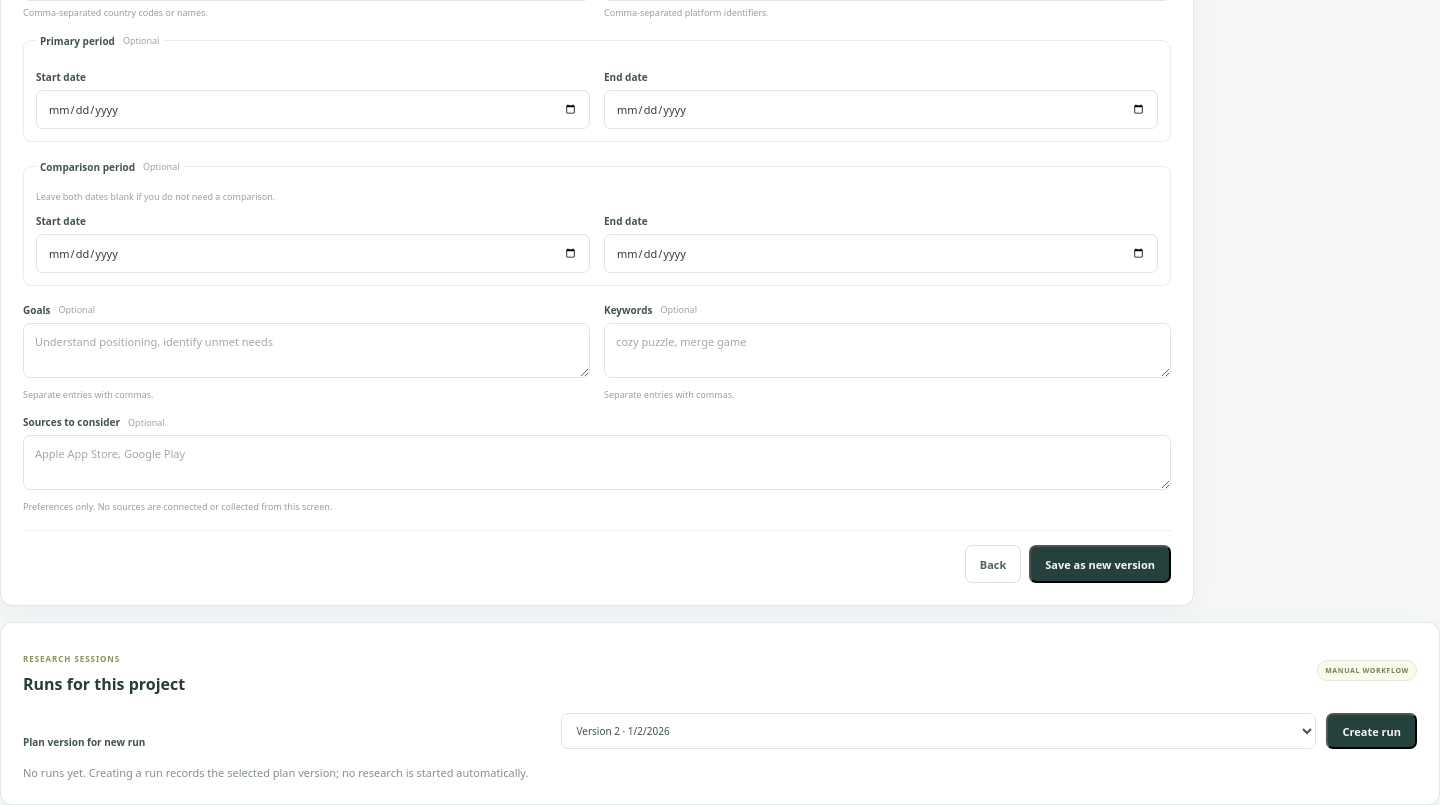
Test: research run UI integration › creates a run with the explicitly selected immutable plan version
(page scrolled)
Select "Version 1 · 1/1/2026" in the dropdown labelled "Plan version for new run" at {"x": 939, "y": 732}, box [562,714,1316,750]
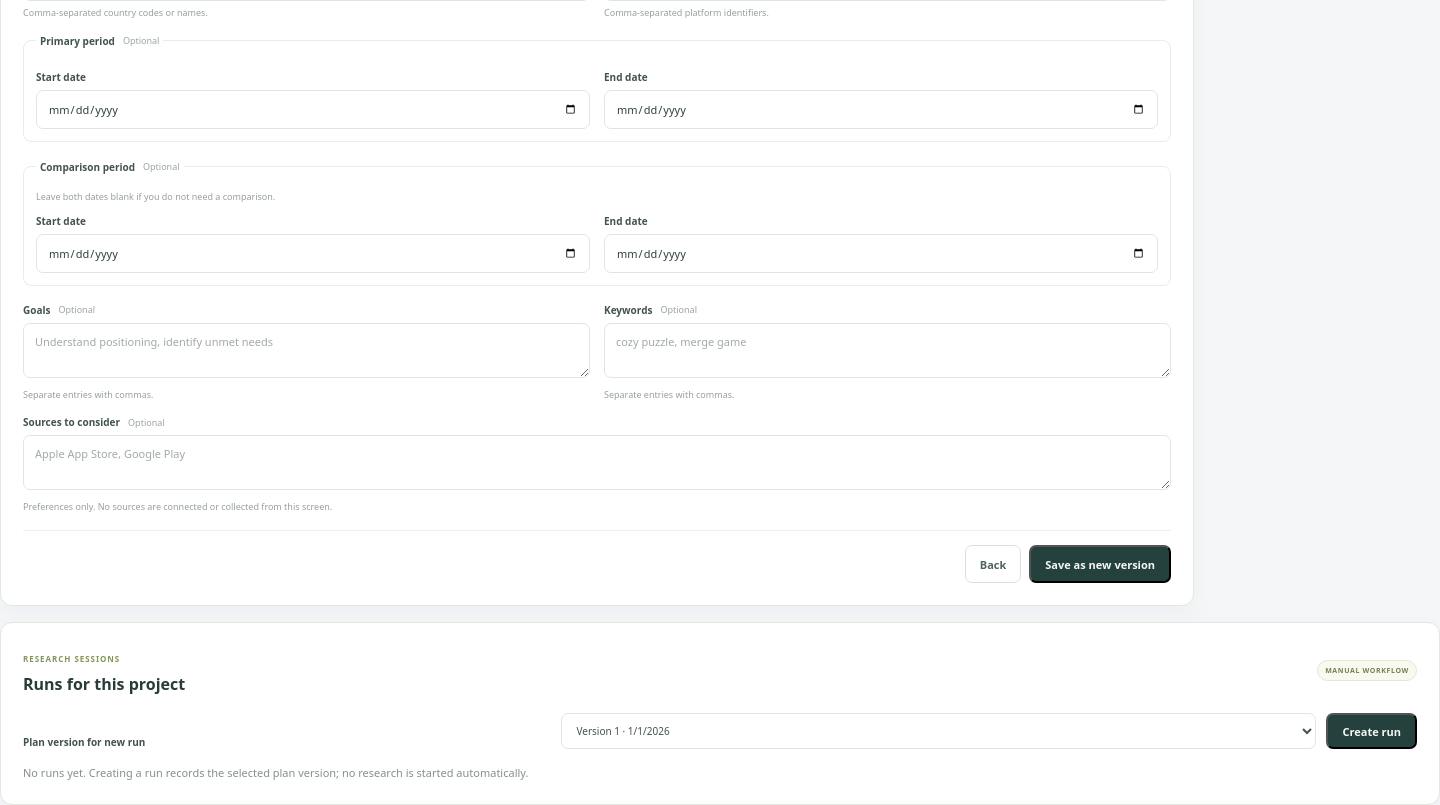
Click the button "Create run" at {"x": 1372, "y": 732}, box [1326,714,1417,750]
(page scrolled)
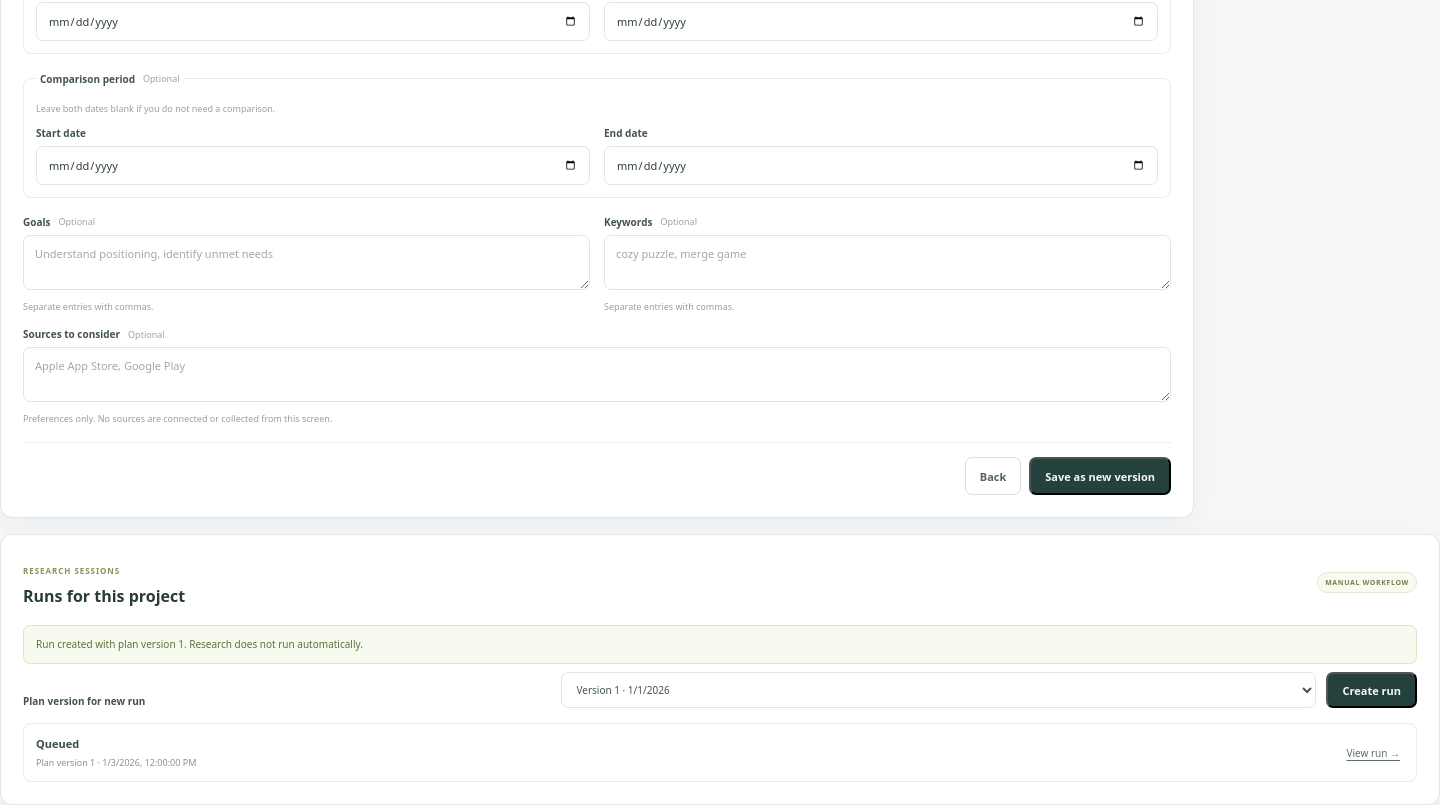
Check: the message "Run created with plan version 1. Research does not run automatically." is shown, box [23,626,1417,664]
Check: the text "queued" is shown, box [36,736,79,752]
